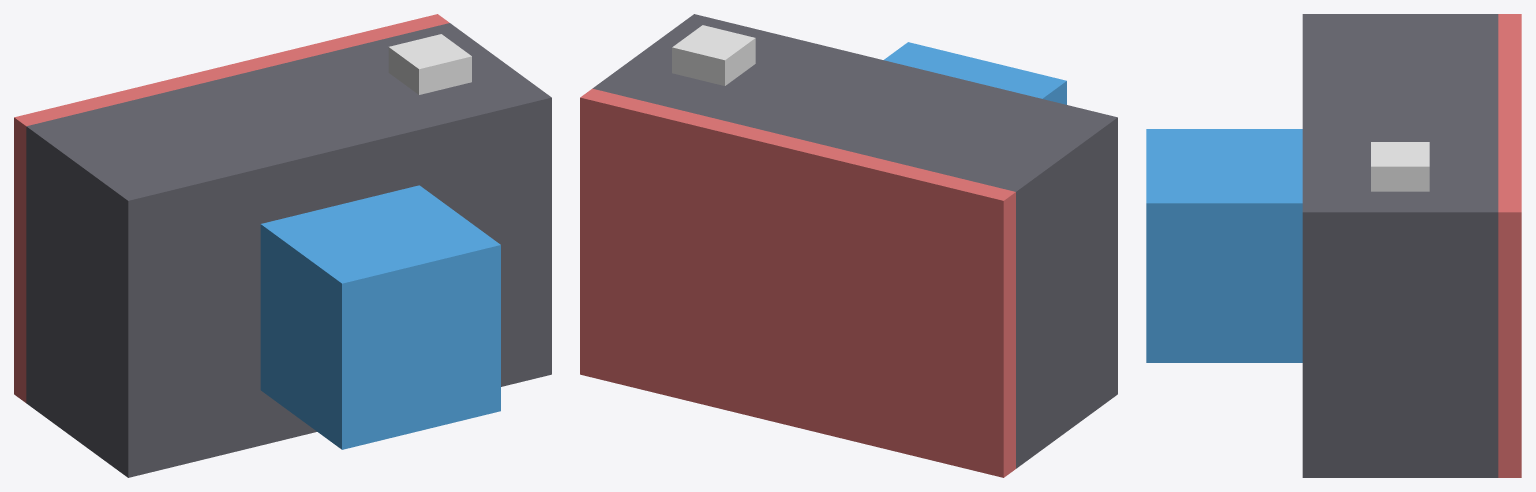
File: toy-camera.glb
3 renders of one model, left to right at view 1: azimuth 30°, elevation 25°; view 2: azimuth 150°, elevation 25°; view 3: azimuth 270°, elevation 25°, orthographic. The views are drawn at different scales.
Visible parts, largest first — view 1: Body, Lens, Back, Button; view 2: Back, Body, Lens, Button; view 3: Body, Lens, Back, Button.
Part boxes in pixels (left/top/right/bottom): Body: left=26, top=23, right=551, bottom=477; Lens: left=260, top=185, right=500, bottom=449; Back: left=14, top=14, right=449, bottom=402; Button: left=388, top=34, right=471, bottom=94; Back: left=580, top=88, right=1015, bottom=477; Body: left=592, top=14, right=1117, bottom=468; Lens: left=883, top=42, right=1066, bottom=104; Button: left=672, top=25, right=755, bottom=85; Body: left=1302, top=14, right=1498, bottom=477; Lens: left=1146, top=129, right=1302, bottom=362; Back: left=1498, top=14, right=1521, bottom=477; Button: left=1371, top=142, right=1429, bottom=191.
Size of the model in its own units: 2.4 by 1.64 by 1.92.
